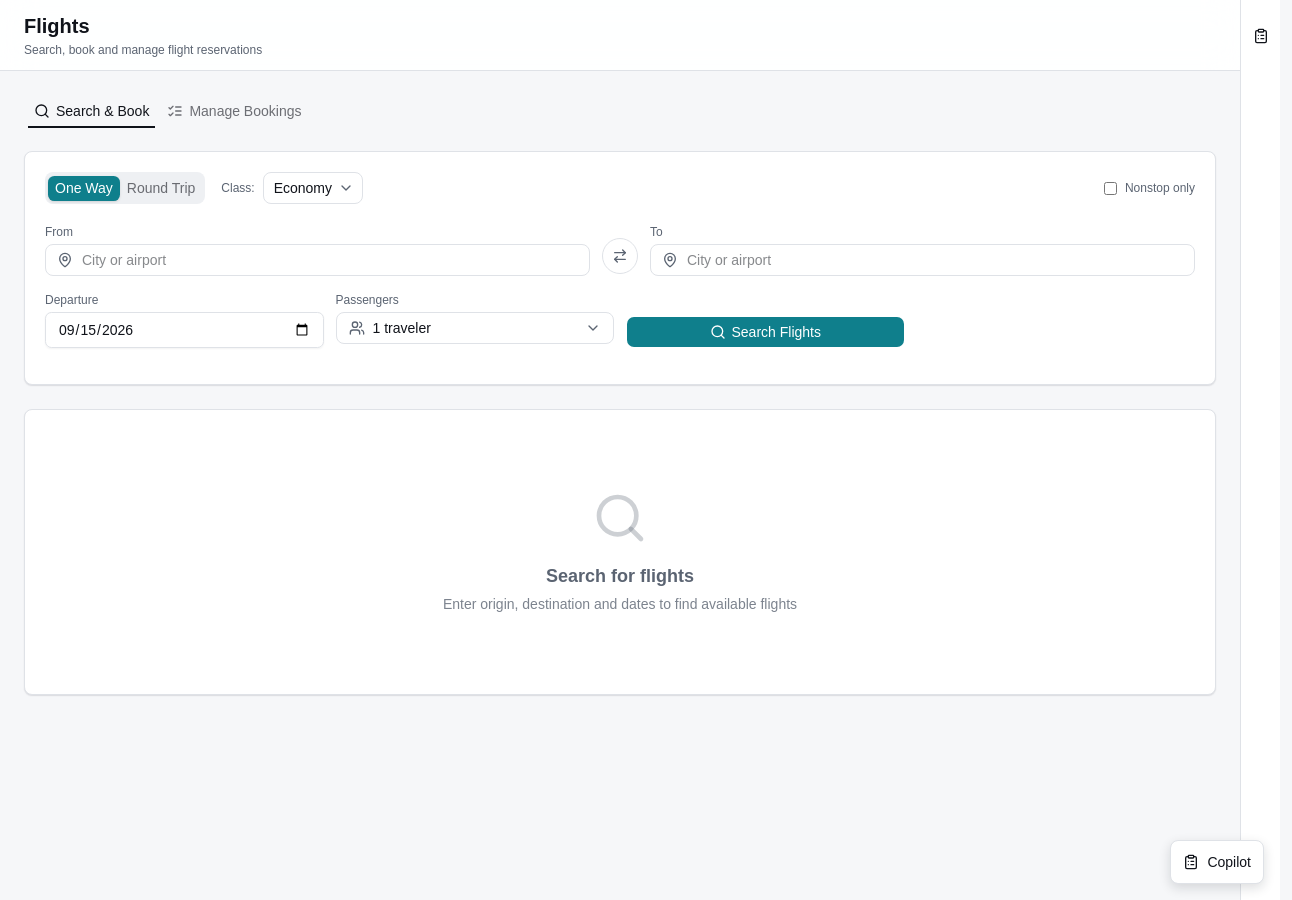
FlightSearch bookings list › counts bookings by status bucket
What coordinates should you click on to do the following:
click the tab "Manage Bookings"
I would click on:
 (234, 111)
Its box is [160, 98, 308, 124].
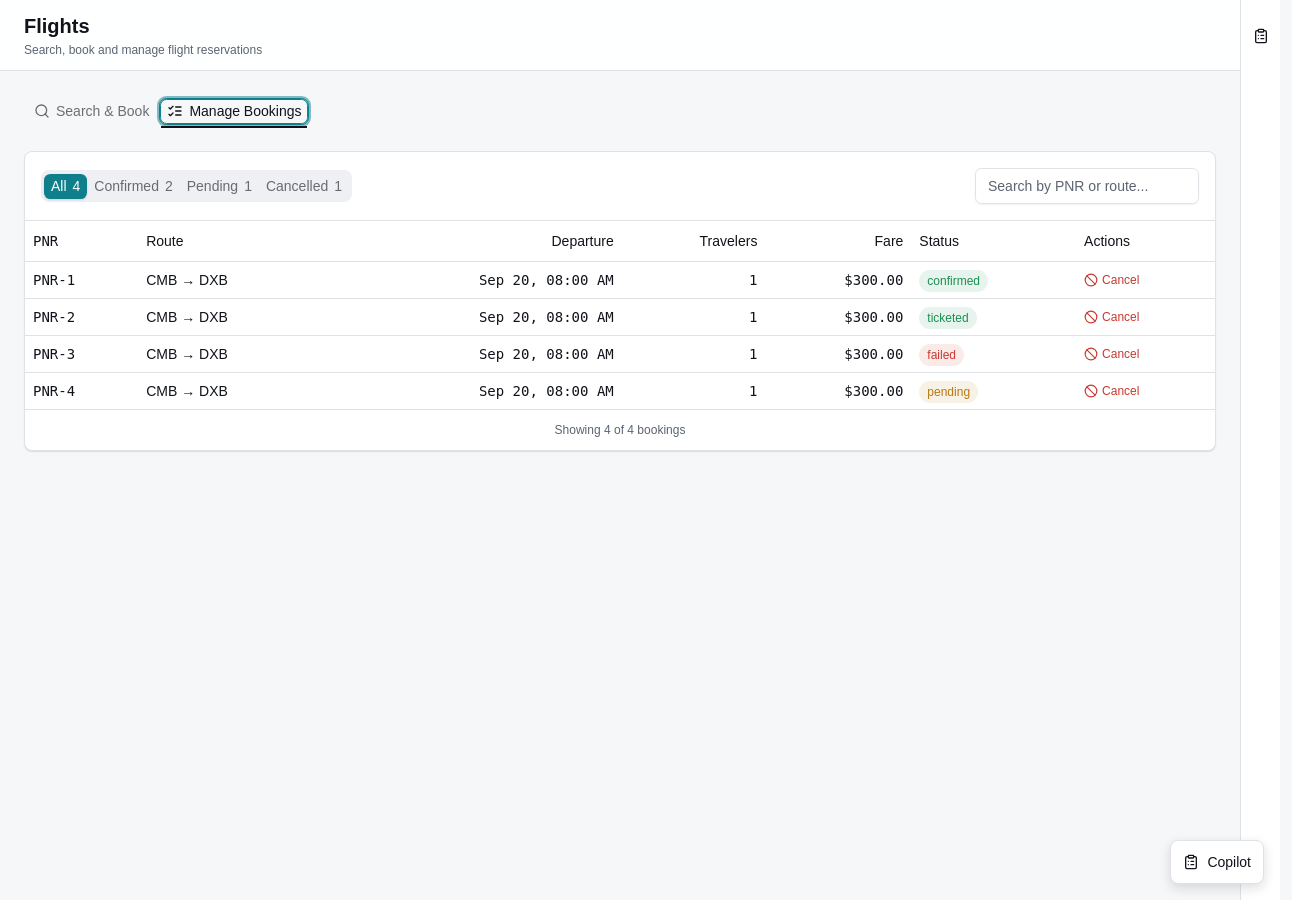
expect the text "PNR-1" is shown: met, box [25, 261, 138, 298]
expect the tab "All 4" is shown: met, box [44, 174, 87, 198]
expect the tab "Confirmed 2" is shown: met, box [87, 174, 180, 198]
